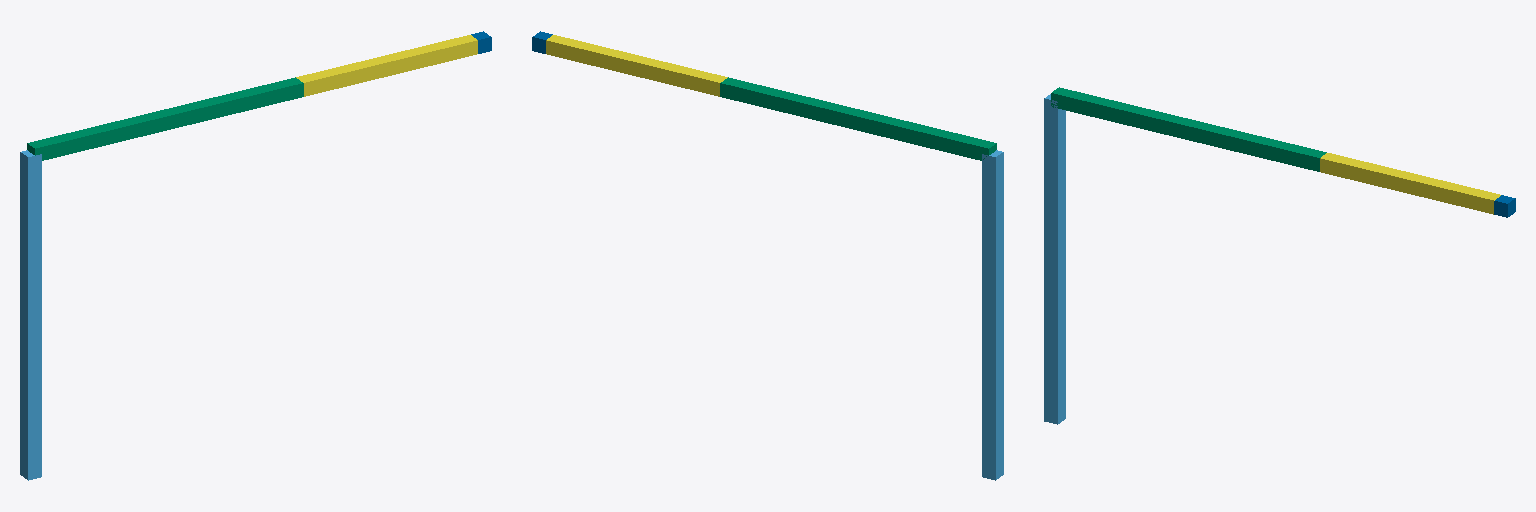
robot.urdf — 2dof:
<?xml version="1.0" ?>
<robot name="2dof" >

<link name="tool0"/>

<link name="base_link">
  <visual>
    <origin xyz="0 0 1.15" rpy="0 0 0"/>
    <geometry>
      <box size="0.1 0.1 2.3"/>
    </geometry>
  </visual>
</link>

<link name="link_1">
  <visual>
    <origin xyz="0 0 1" rpy="0 0 0"/>
    <geometry>
      <box size="0.1 0.1 2"/>
    </geometry>
  </visual>
</link>

<link name="link_2">
  <visual>
    <origin xyz="0 0 0.65" rpy="0 0 0"/>
    <geometry>
      <box size="0.1 0.1 1.3"/>
    </geometry>
  </visual>
</link>

<link name="link_3">
  <visual>
    <origin xyz="0 0 0.05" rpy="0 0 0"/>
    <geometry>
      <box size="0.1 0.1 0.1"/>
    </geometry>
  </visual>
</link>

  <joint name="joint_1" type="revolute">
    <parent link="base_link" />
    <child link="link_1" />
    <limit effort="30" velocity="1.0" lower="-3.14" upper="3.14" />
    <origin xyz="0 0 2.3" rpy="0 1.57 0" />
    <axis xyz="1 0 0" />
  </joint>
	
  <joint name="joint_2" type="revolute">
    <parent link="link_1" />
    <child link="link_2" />
    <limit effort="30" velocity="1.0" lower="-3.14" upper="3.14" />
    <origin xyz="0 0 2" rpy="0 0 0" />
    <axis xyz="0 1 0" />
  </joint>

 <joint name="joint_3" type="revolute">
    <parent link="link_2" />
    <child link="link_3" />
    <limit effort="30" velocity="1.0" lower="-3.14" upper="3.14" />
    <origin xyz="0 0 1.3" rpy="0 0 0" />
    <axis xyz="0 1 0" />
  </joint>

<joint name="joint_3-tool0" type="revolute">
    <parent link="link_3" />
    <child link="tool0" />
    <limit effort="30" velocity="1.0" lower="-6.28318" upper="6.28318" />
    <origin xyz="0 0 0" rpy="0 0 0" />
    <axis xyz="0 0 1" />
  </joint>

</robot>

--- What the picture shows (computed from the rendered views, not written in the file) ---
The picture shows the robot from 3 angles, left to right: view 1: azimuth 30°, elevation 25°; view 2: azimuth 150°, elevation 25°; view 3: azimuth 330°, elevation 25°; orthographic projection.
Model 2dof with 5 links and 4 joints (4 revolute), rooted at base_link, posed every joint at zero.
Visible links, largest first — view 1: base_link, link_1, link_2; view 2: base_link, link_1, link_2; view 3: base_link, link_1, link_2.
Boxes of the visible links, x1,y1,x2,y2 form: base_link: (20,150,41,480); link_1: (27,77,303,160); link_2: (296,35,477,96); base_link: (982,150,1003,480); link_1: (720,77,996,160); link_2: (546,35,727,96); base_link: (1044,94,1065,424); link_1: (1051,87,1326,171); link_2: (1320,153,1500,214).
Bounding box of the posed robot: 3.45 × 0.1 × 2.35 m (x, y, z).
Geometry: primitives only (box / cylinder / sphere), no mesh files.